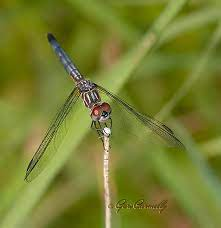insect: (23, 32, 186, 184)
